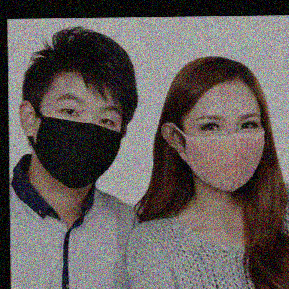with_mask: (34, 90, 121, 191), (183, 111, 267, 194)
